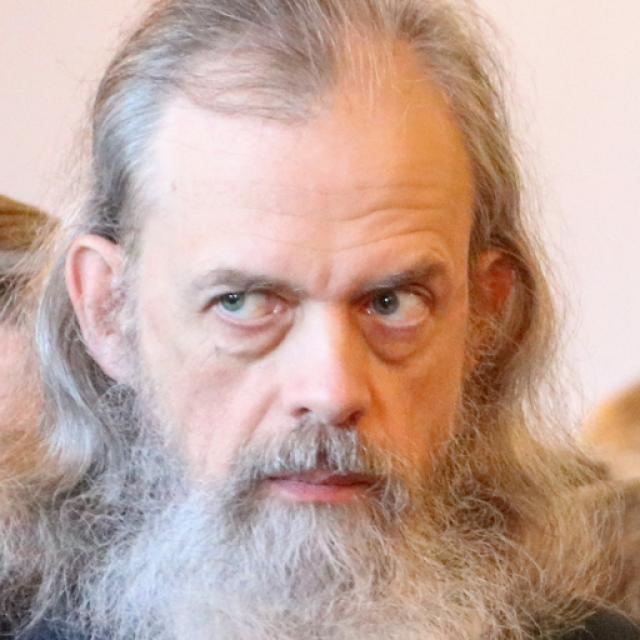anger: (131, 104, 469, 600)
